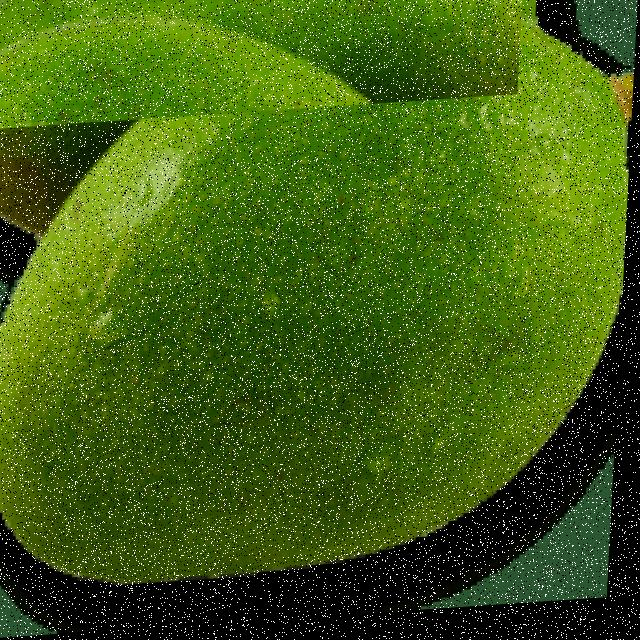raw-image: (11, 0, 639, 579), (0, 0, 524, 129)
